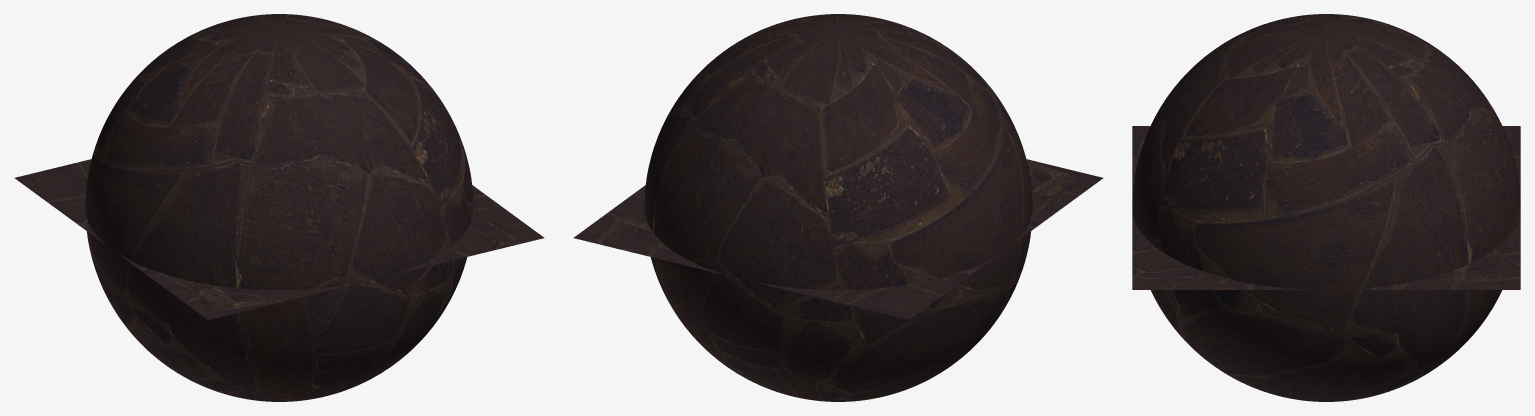
Rendered from slate_floor_2k.fbx.
3 views of the same model, side by side, from view 1: azimuth 30°, elevation 25°; view 2: azimuth 150°, elevation 25°; view 3: azimuth 270°, elevation 25° (orthographic).
Parts seen in each view (by area): view 1: Sphere, Plane; view 2: Sphere, Plane; view 3: Sphere, Plane.
Boxes of the visible parts, box(x1,y1,x2,y2) form: Sphere: box(85, 14, 473, 401); Plane: box(14, 159, 544, 319); Sphere: box(644, 14, 1032, 401); Plane: box(573, 159, 1103, 319); Sphere: box(1132, 14, 1520, 401); Plane: box(1132, 126, 1520, 289).
Size of the model in its own units: 229 by 229 by 229.
